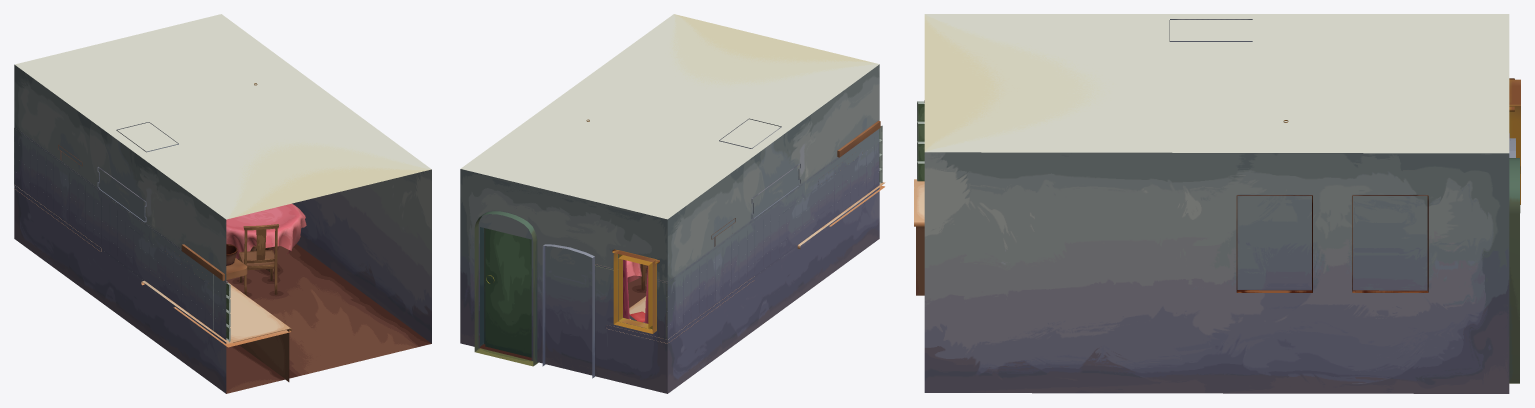
Rendered from SuarezM_PII_HarvestHero_Texturizado_Cocina.fbx.
3 views of the same model, side by side, from view 1: azimuth 30°, elevation 25°; view 2: azimuth 150°, elevation 25°; view 3: azimuth 270°, elevation 25° (orthographic). The views are drawn at different scales.
Visible parts, largest first — view 1: Estancia, Encimera.001, MantelMesa, Silla, Encimera, Estanteria.002, Azulejos, Campana; view 2: Estancia, Puerta, Ventana, Frigorifico, Encimera.001, Estanteria.002; view 3: Estancia, Puerta, Ventana, Azulejos, Encimera, Cuadro, Cuadro.001.
Part boxes in pixels (box(x1,y1,x2,y2)): Estancia: box(14, 14, 431, 393); Encimera.001: box(141, 280, 291, 347); MantelMesa: box(226, 203, 306, 258); Silla: box(239, 224, 278, 295); Encimera: box(233, 329, 289, 381); Estanteria.002: box(181, 244, 247, 280); Azulejos: box(14, 128, 230, 342); Campana: box(97, 122, 178, 222); Estancia: box(460, 14, 879, 393); Puerta: box(474, 211, 538, 366); Ventana: box(613, 250, 656, 333); Frigorifico: box(542, 244, 594, 378); Encimera.001: box(797, 182, 885, 249); Estanteria.002: box(837, 120, 880, 157); Estancia: box(924, 14, 1509, 393); Puerta: box(1509, 158, 1520, 383); Ventana: box(1509, 79, 1520, 204); Azulejos: box(917, 101, 924, 181); Encimera: box(916, 226, 924, 295); Cuadro: box(1236, 195, 1312, 292); Cuadro.001: box(1352, 195, 1428, 292).
Size of the model in its own units: 2760 by 2201 by 4959.
4 materials, 4 textured.
